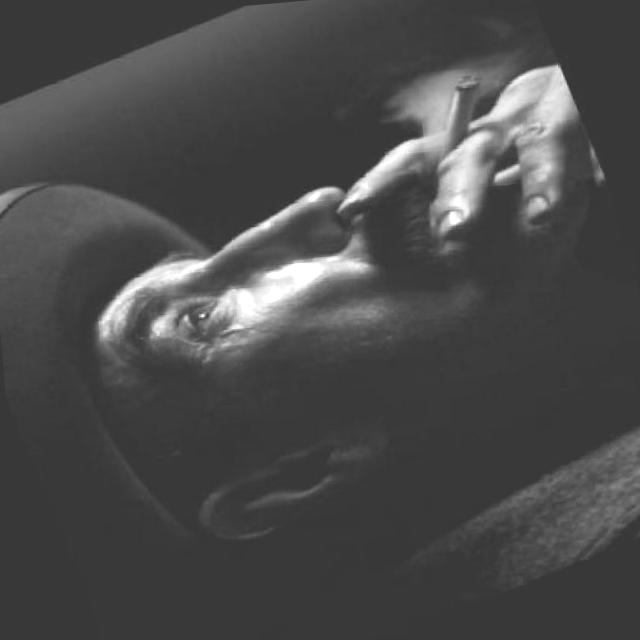smoke: (403, 65, 517, 175)
